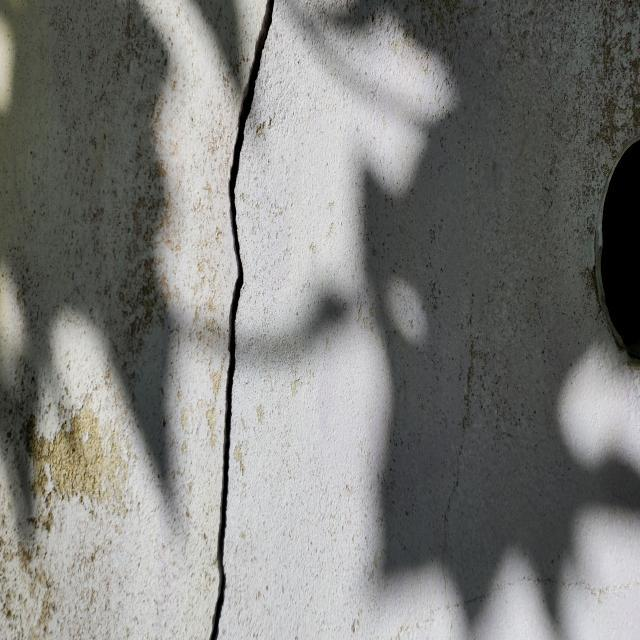SurfaceCrack: (157, 0, 326, 640), (303, 1, 467, 640), (500, 1, 640, 639)
